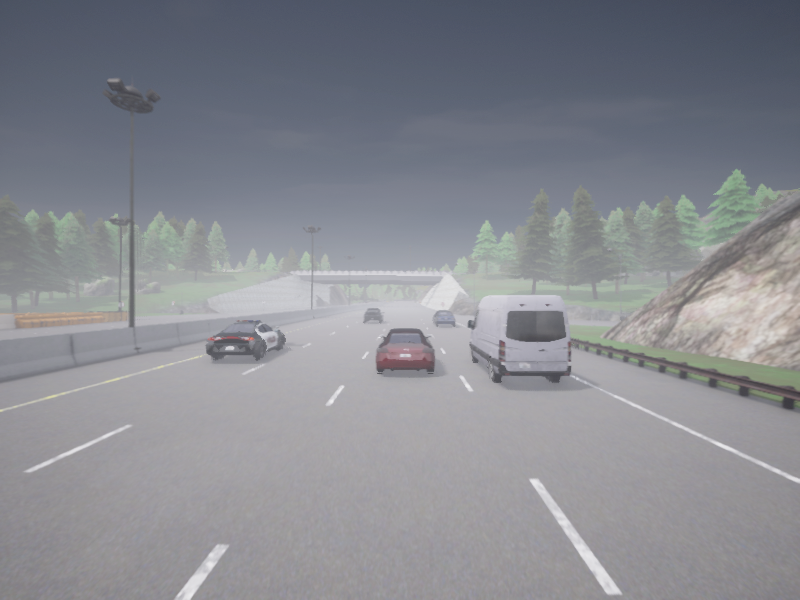vehicle: (468, 295, 571, 381), (205, 320, 283, 359), (376, 329, 434, 373), (432, 311, 455, 326), (364, 308, 384, 322)
